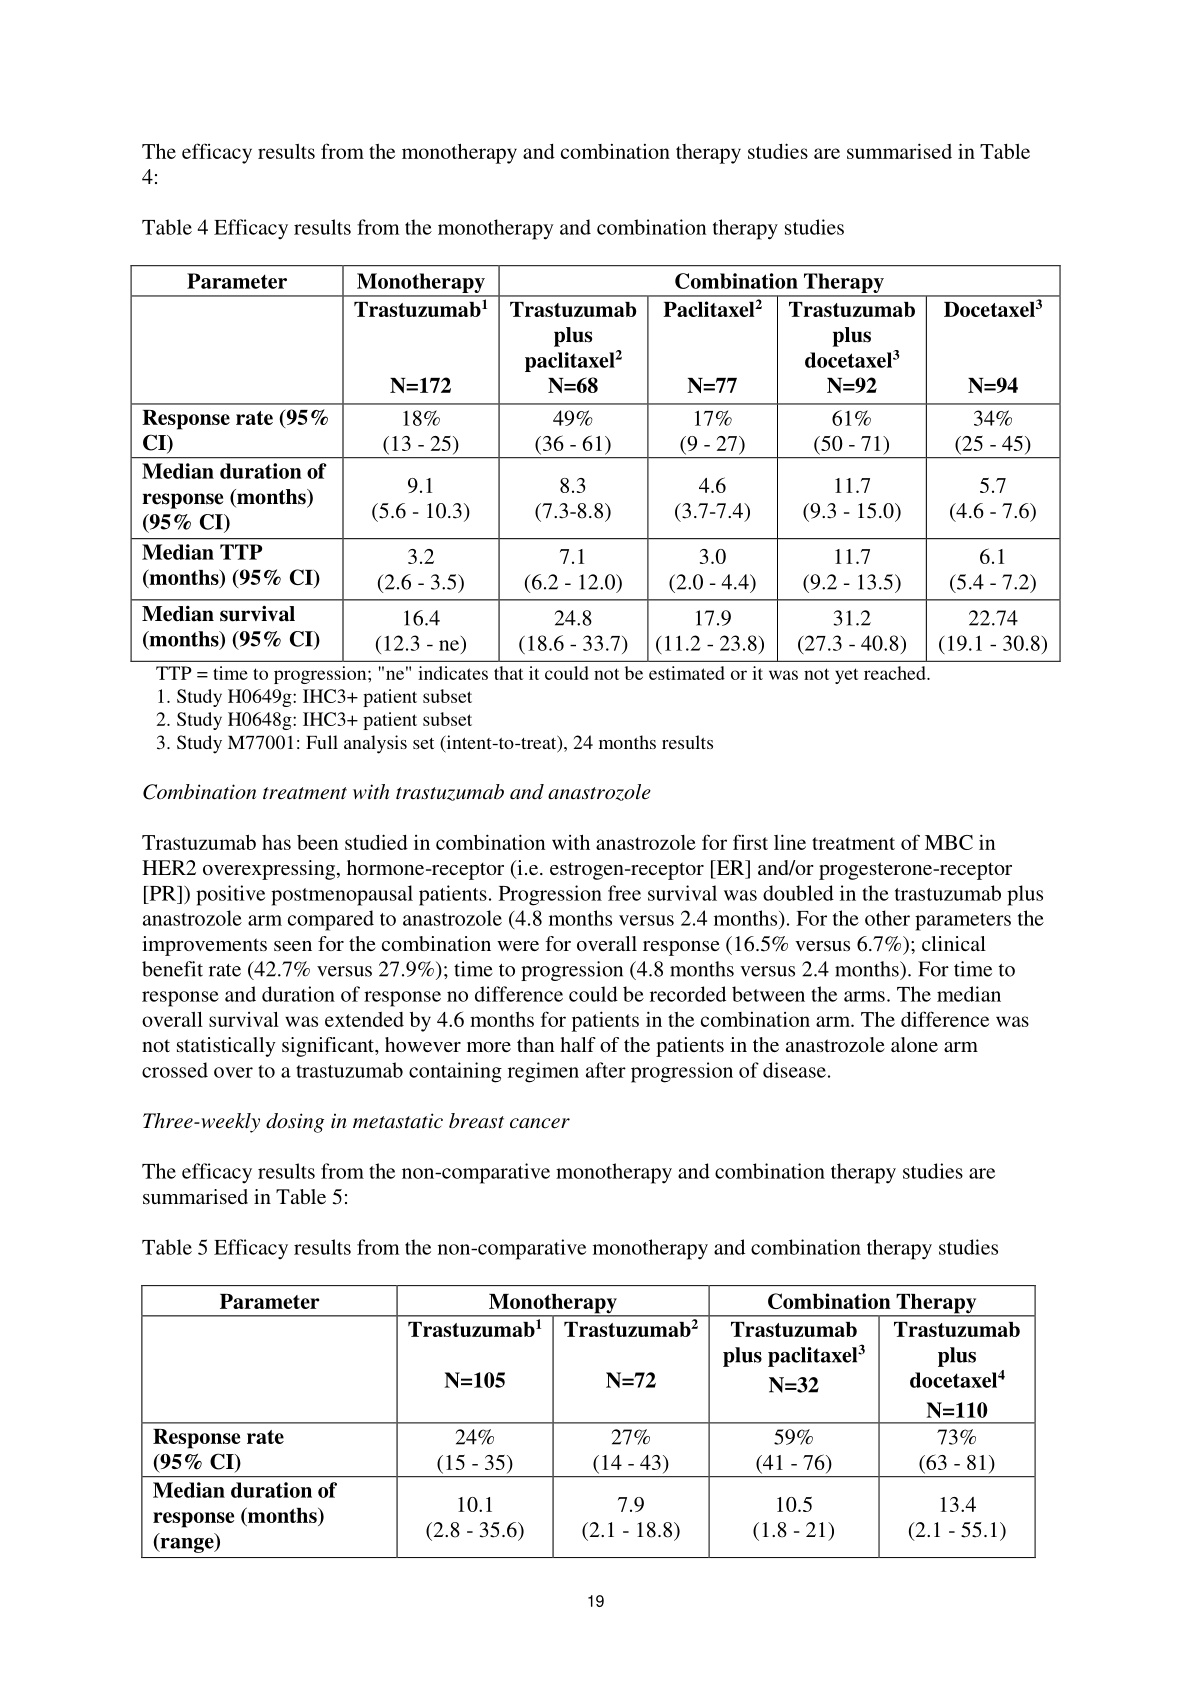merged_cells: (128, 264, 1062, 663), (139, 1283, 1036, 1557)
